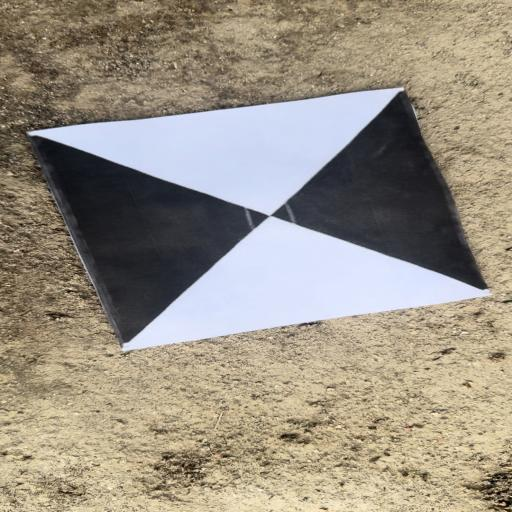target: (34, 88, 492, 351)
